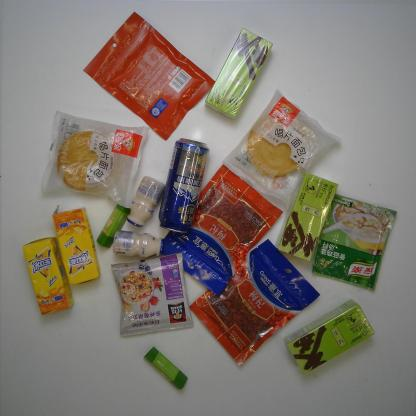Alcohol: (160, 136, 211, 235)
Dessert: (220, 88, 341, 211), (41, 110, 152, 210)
Dried Fruit: (82, 11, 218, 140), (158, 165, 284, 299), (190, 238, 320, 367)
Drink: (22, 235, 72, 320), (53, 206, 100, 286)
Instant Drink: (110, 251, 195, 336), (283, 297, 375, 375), (204, 29, 278, 120), (277, 172, 340, 262)
Milk: (126, 174, 162, 229), (114, 230, 166, 256)
Seasoner: (312, 191, 399, 293)
Stationery: (144, 347, 187, 388), (97, 202, 131, 250)
